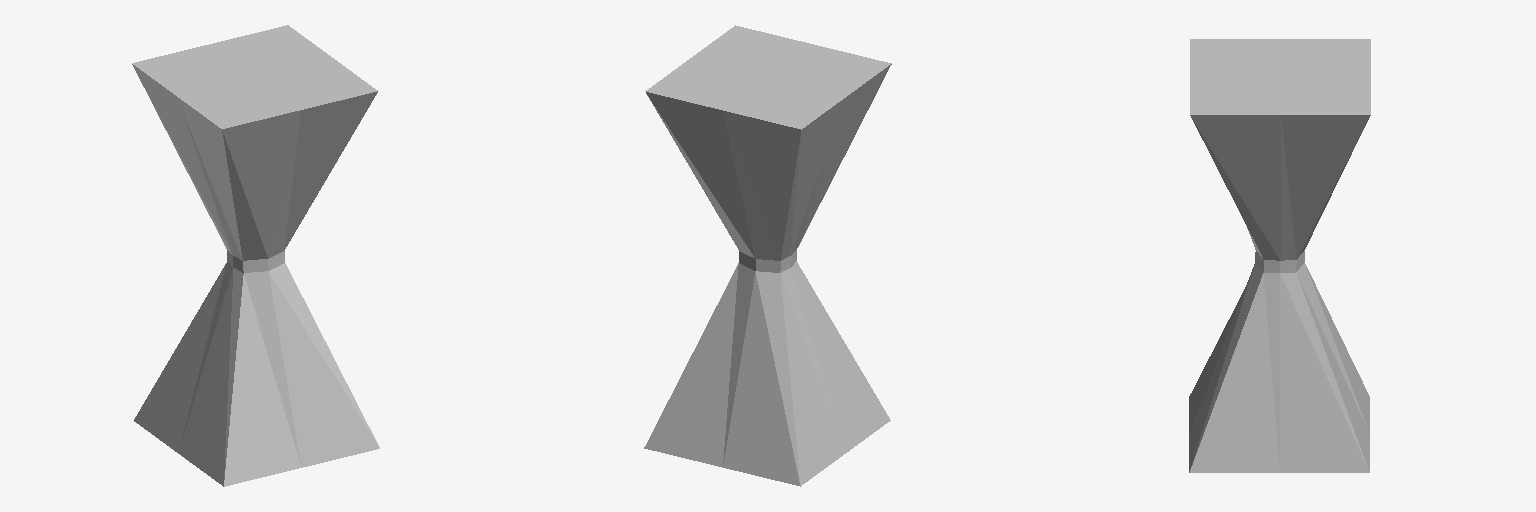
The model's file is clockshape_2.obj.
3 renders of one model, left to right at view 1: azimuth 30°, elevation 25°; view 2: azimuth 150°, elevation 25°; view 3: azimuth 270°, elevation 25°, orthographic.
Visible parts, largest first — view 1: Cube.001; view 2: Cube.001; view 3: Cube.001.
Boxes of the visible parts, x1,y1,x2,y2 form: Cube.001: [132, 25, 379, 486]; Cube.001: [644, 25, 891, 486]; Cube.001: [1189, 39, 1370, 472].
Bounding box in the file's own units: 2.02 × 4.37 × 2.01.